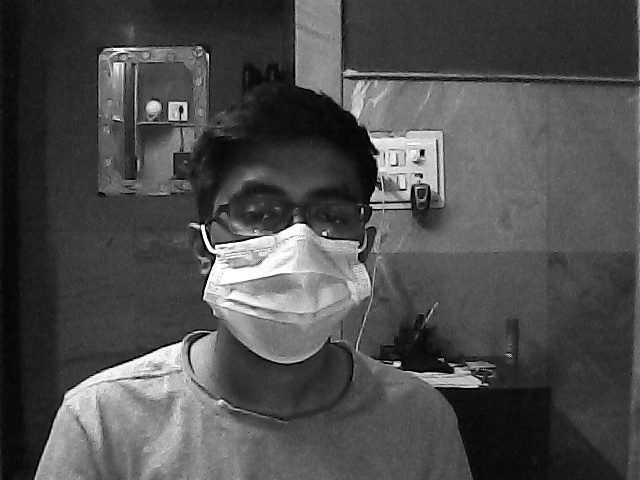mask: (199, 159, 378, 367)
